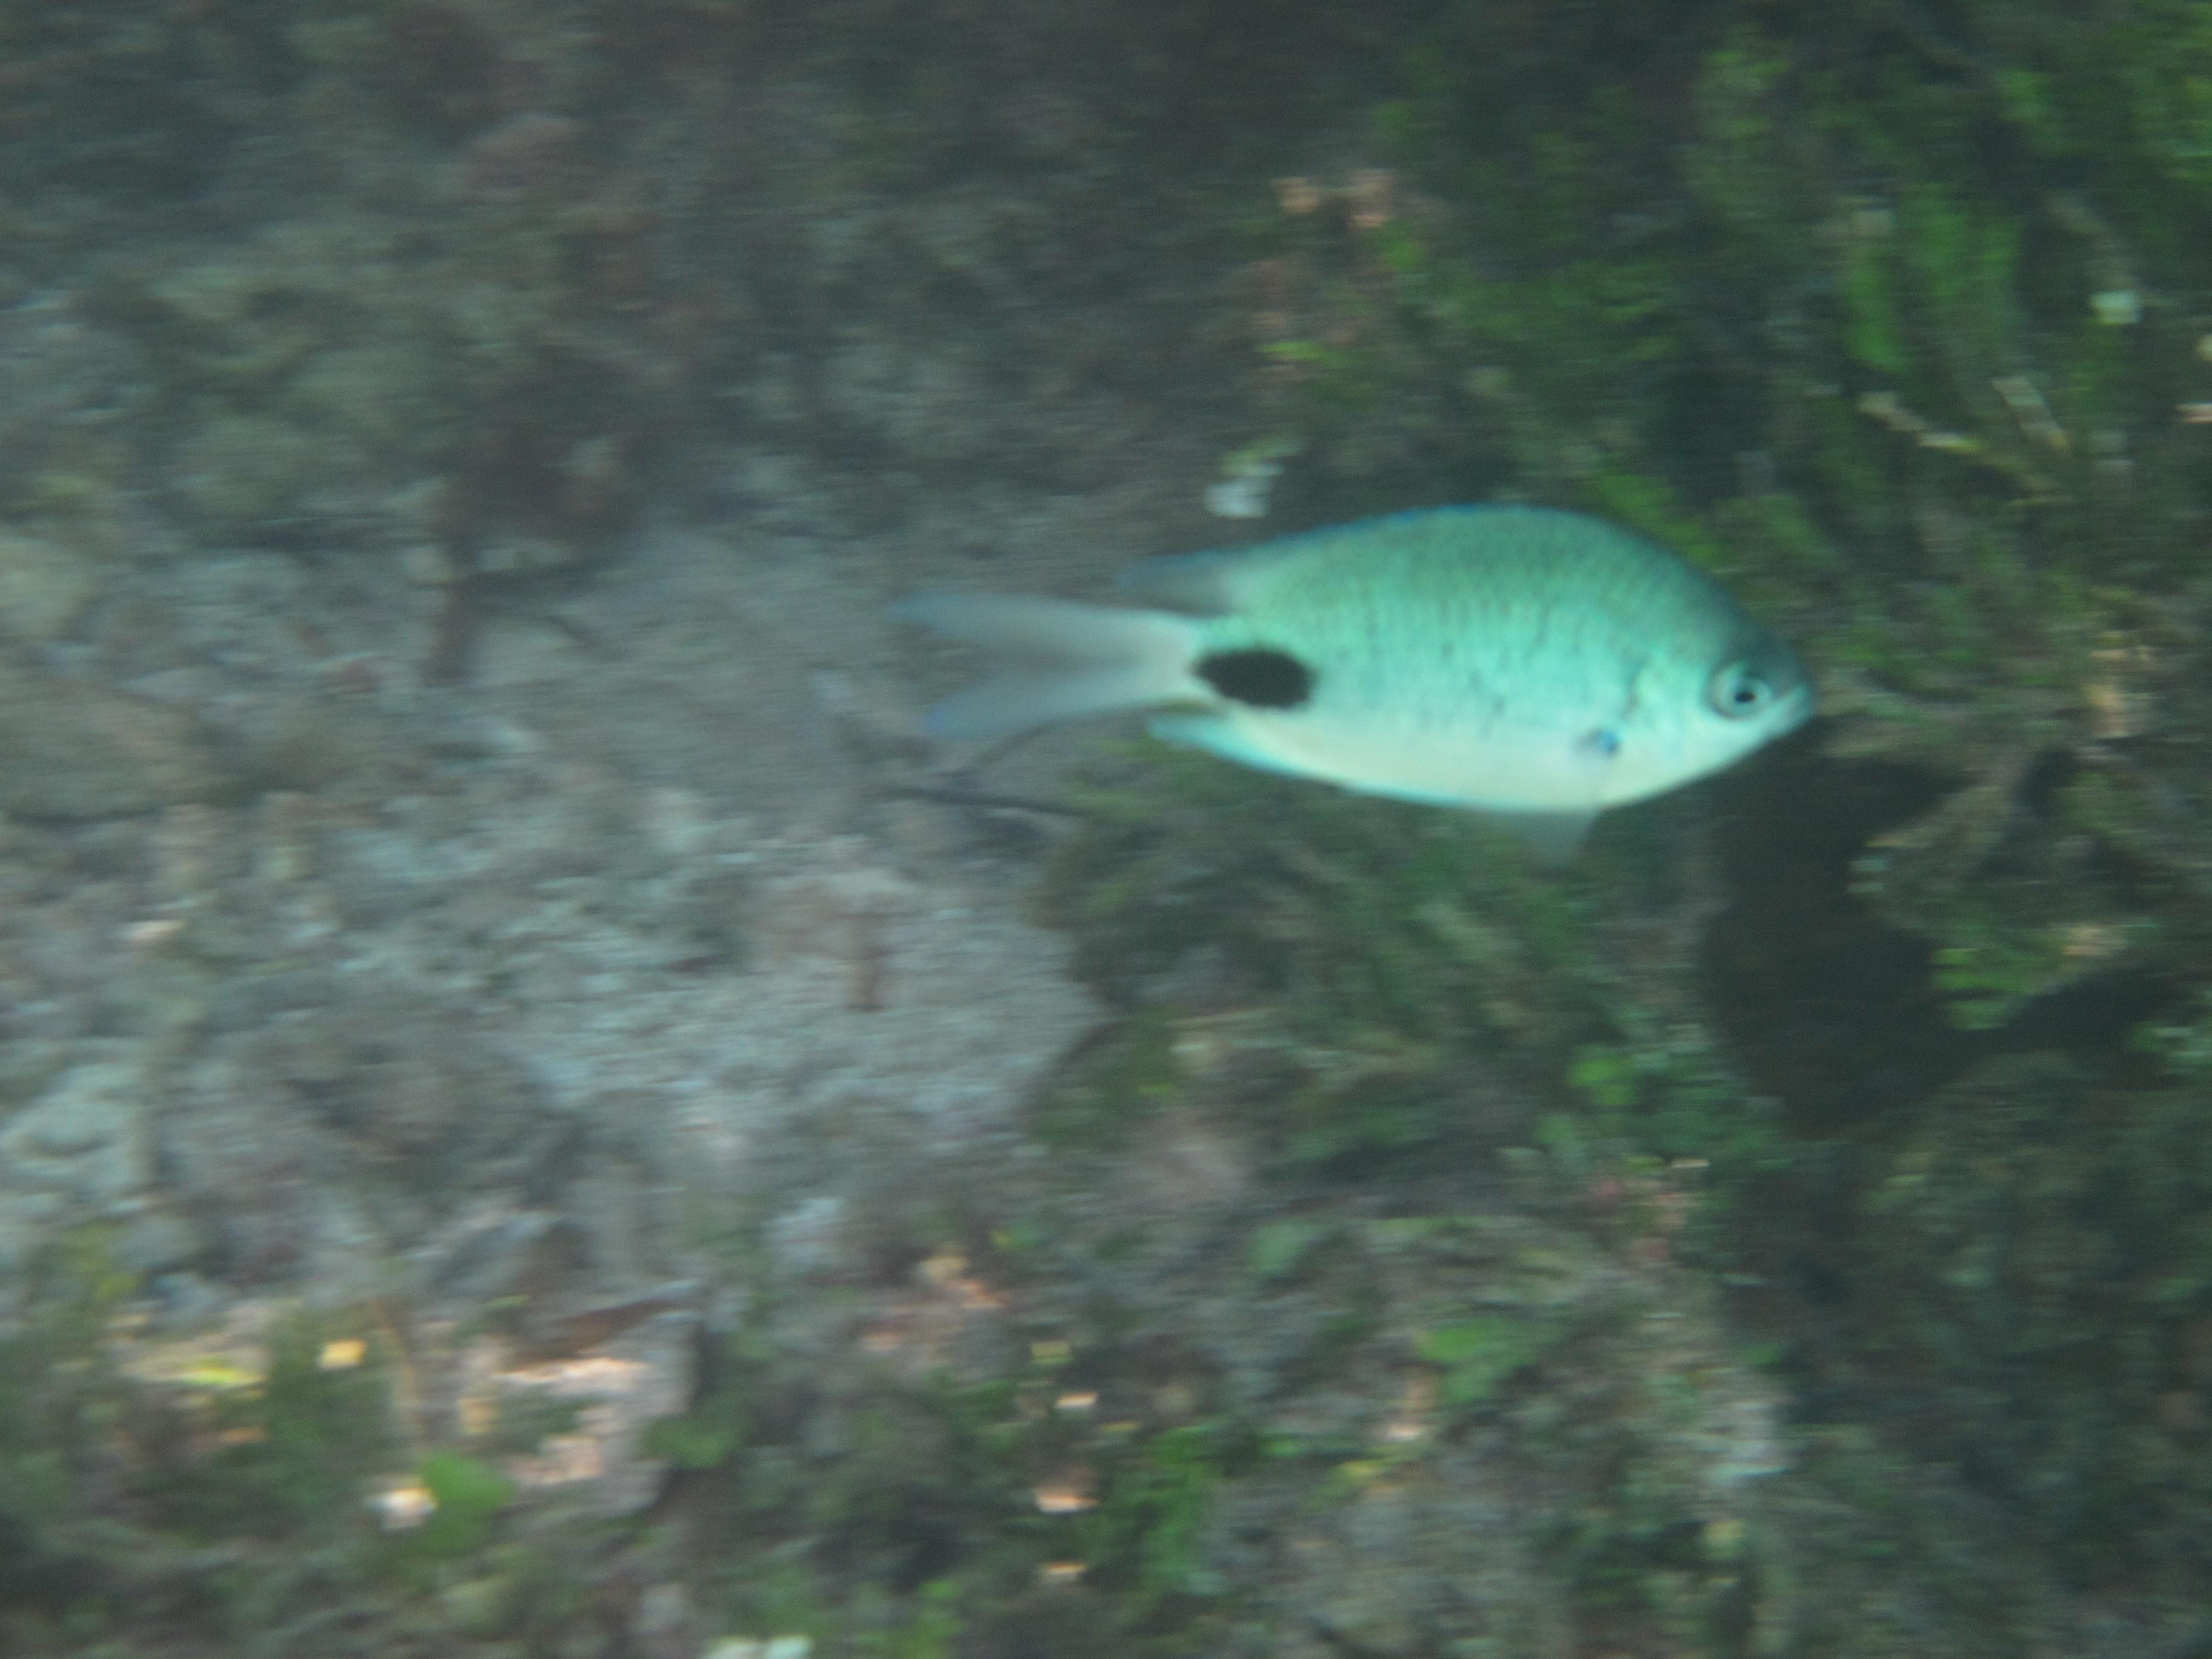Fish: (843, 455, 1900, 929)
